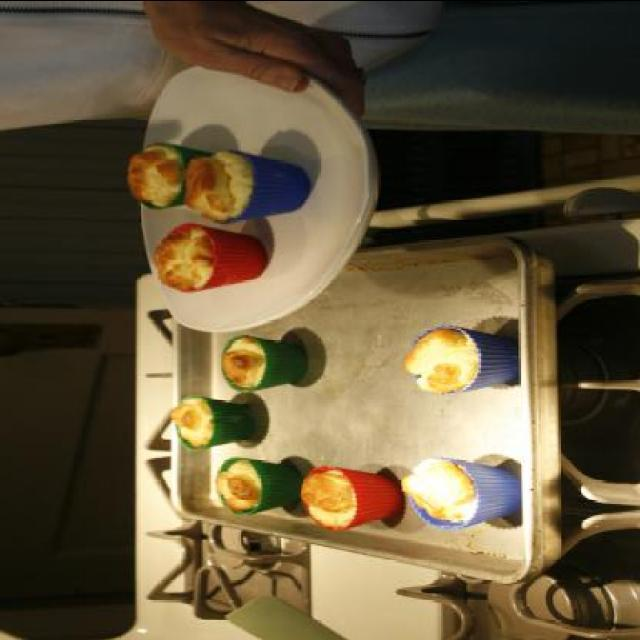Muffin: (402, 322, 524, 398), (397, 456, 521, 530), (188, 149, 310, 223), (154, 224, 268, 292), (300, 466, 404, 530), (124, 142, 216, 210), (215, 334, 308, 392), (212, 456, 298, 514), (168, 394, 254, 449)
